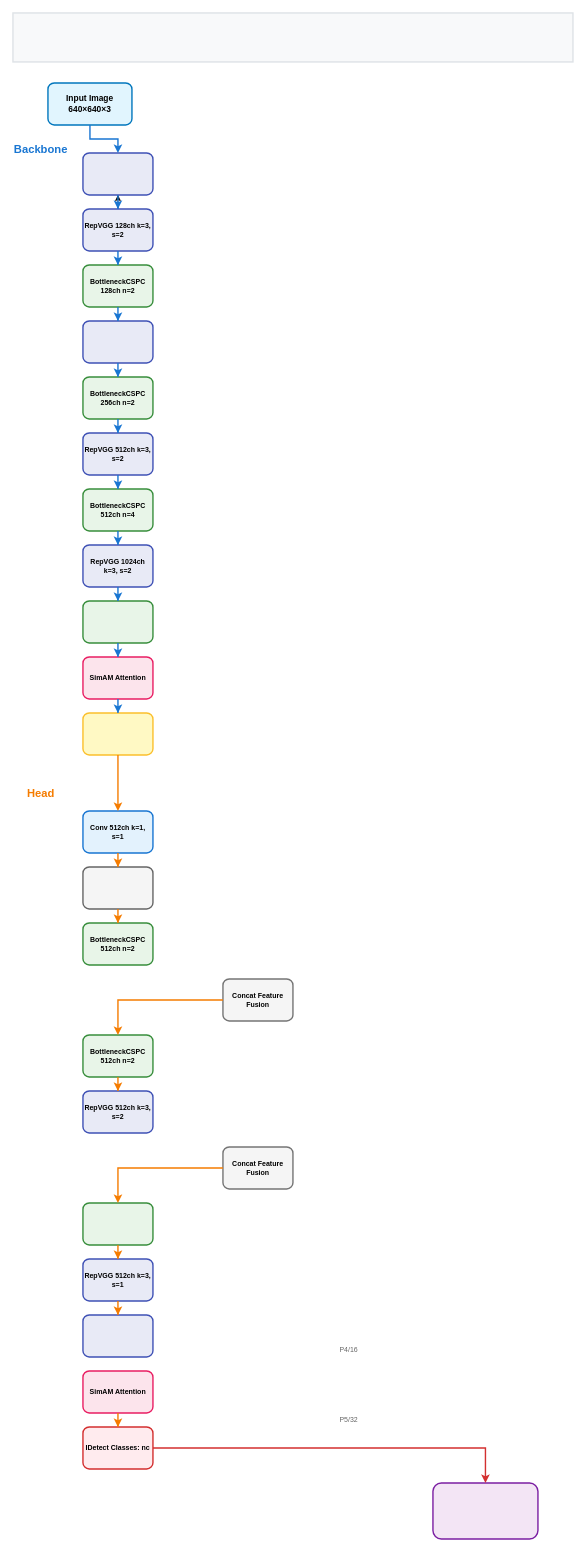
Some shapes in this 585 by 1551 pixel diagram are drawn without their labels. Each missing label, with the centre of its shape:
"BottleneckCSPC 1024ch n=2" goes at (117,621).
"BottleneckCSPC 768ch n=2" goes at (117,1223).
"Detection Output Bounding Boxes Class Predictions" goes at (485,1510).
"RepVGG 256ch k=3, s=2" goes at (117,341).
"RepVGG 64ch k=3, s=2" goes at (117,173).
"RepVGG 768ch k=3, s=1" goes at (117,1335).
"SPPF 1024ch k=5" goes at (117,733).
"Upsample ×2" goes at (117,887).
"YOLOv4-RepVGG-SimAM RepVGG + CSP + SimAM Attention" goes at (292,37).
